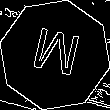M_S: (27, 26, 83, 84)
